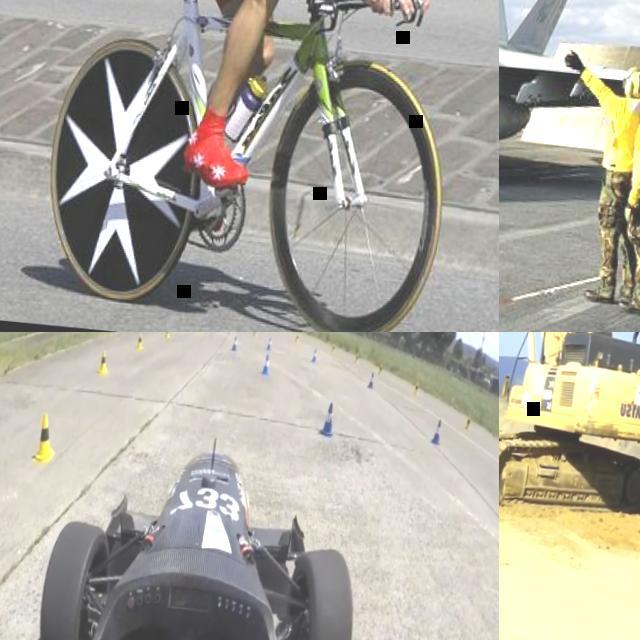helmet: (621, 66, 640, 98)
vest: (600, 92, 640, 173)
